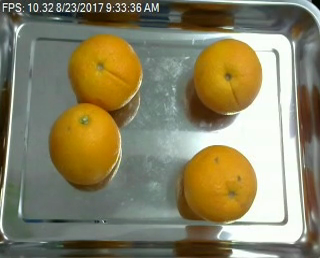Orange: (182, 144, 259, 222), (49, 104, 121, 186), (68, 35, 143, 111), (193, 38, 263, 115)
